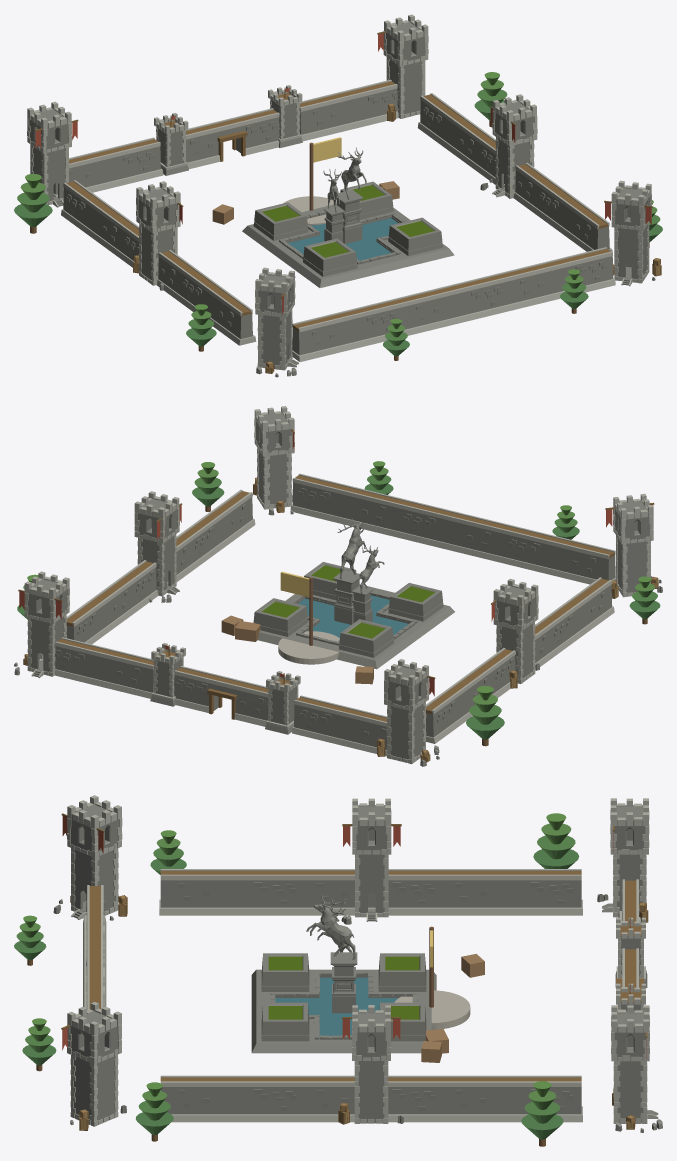
File: blood_and_bone_control_point_v2.glb
The picture shows the model from 3 angles, top to bottom: view 1: azimuth 30°, elevation 25°; view 2: azimuth 150°, elevation 25°; view 3: azimuth 270°, elevation 25°; orthographic projection. The views are drawn at different scales.
Visible parts, largest first — view 1: central_keep_0, front_gatehouse_1, front_gatehouse_0, back_wall_0_0, back_wall_1_0, front_wall_right_0, back_wall_2_0, watchtower_2_1, front_wall_left_0, watchtower_3_1, watchtower_1_1, watchtower_0_1 (+30 smaller); view 2: central_keep_0, front_gatehouse_1, front_gatehouse_0, back_wall_0_0, back_wall_2_0, back_wall_1_0, watchtower_0_1, front_wall_right_0, front_wall_left_0, watchtower_3_1, watchtower_2_1, watchtower_1_1 (+30 smaller); view 3: central_keep_0, left_wall_0_0, left_wall_2_0, right_wall_2_0, right_wall_0_0, watchtower_3_1, watchtower_2_1, left_wall_1_0, watchtower_3_0, right_wall_1_0, watchtower_4_1, watchtower_5_1 (+31 smaller).
Boxes of the visible parts, left/top/right/bottom form: central_keep_0: left=242, top=147, right=454, bottom=287; front_gatehouse_1: left=158, top=100, right=302, bottom=175; front_gatehouse_0: left=154, top=85, right=302, bottom=169; back_wall_0_0: left=292, top=307, right=404, bottom=355; back_wall_1_0: left=403, top=281, right=508, bottom=329; front_wall_right_0: left=299, top=88, right=397, bottom=134; back_wall_2_0: left=507, top=256, right=613, bottom=304; watchtower_2_1: left=256, top=274, right=297, bottom=377; front_wall_left_0: left=53, top=146, right=160, bottom=194; watchtower_3_1: left=613, top=186, right=655, bottom=285; watchtower_1_1: left=386, top=20, right=426, bottom=114; watchtower_0_1: left=29, top=108, right=70, bottom=206; central_keep_0: left=253, top=518, right=454, bottom=669; front_gatehouse_1: left=150, top=658, right=296, bottom=734; front_gatehouse_0: left=151, top=643, right=300, bottom=728; back_wall_0_0: left=502, top=533, right=615, bottom=580; back_wall_2_0: left=292, top=482, right=398, bottom=530; back_wall_1_0: left=397, top=508, right=503, bottom=556; watchtower_0_1: left=385, top=666, right=439, bottom=766; front_wall_right_0: left=55, top=646, right=153, bottom=692; front_wall_left_0: left=294, top=704, right=387, bottom=749; watchtower_3_1: left=256, top=412, right=293, bottom=515; watchtower_2_1: left=614, top=499, right=662, bottom=593; watchtower_1_1: left=14, top=579, right=67, bottom=676; central_keep_0: left=251, top=895, right=436, bottom=1053; left_wall_0_0: left=437, top=880, right=581, bottom=907; left_wall_2_0: left=160, top=880, right=304, bottom=907; right_wall_2_0: left=160, top=1087, right=304, bottom=1114; right_wall_0_0: left=437, top=1087, right=581, bottom=1114; watchtower_3_1: left=70, top=1010, right=126, bottom=1124; watchtower_2_1: left=53, top=804, right=118, bottom=920; left_wall_1_0: left=299, top=880, right=442, bottom=907; watchtower_3_0: left=67, top=1002, right=121, bottom=1126; right_wall_1_0: left=299, top=1087, right=441, bottom=1114; watchtower_4_1: left=334, top=805, right=390, bottom=924; watchtower_5_1: left=353, top=1011, right=403, bottom=1123.
Size of the model in its own units: 7.21 by 1.38 by 7.03.
